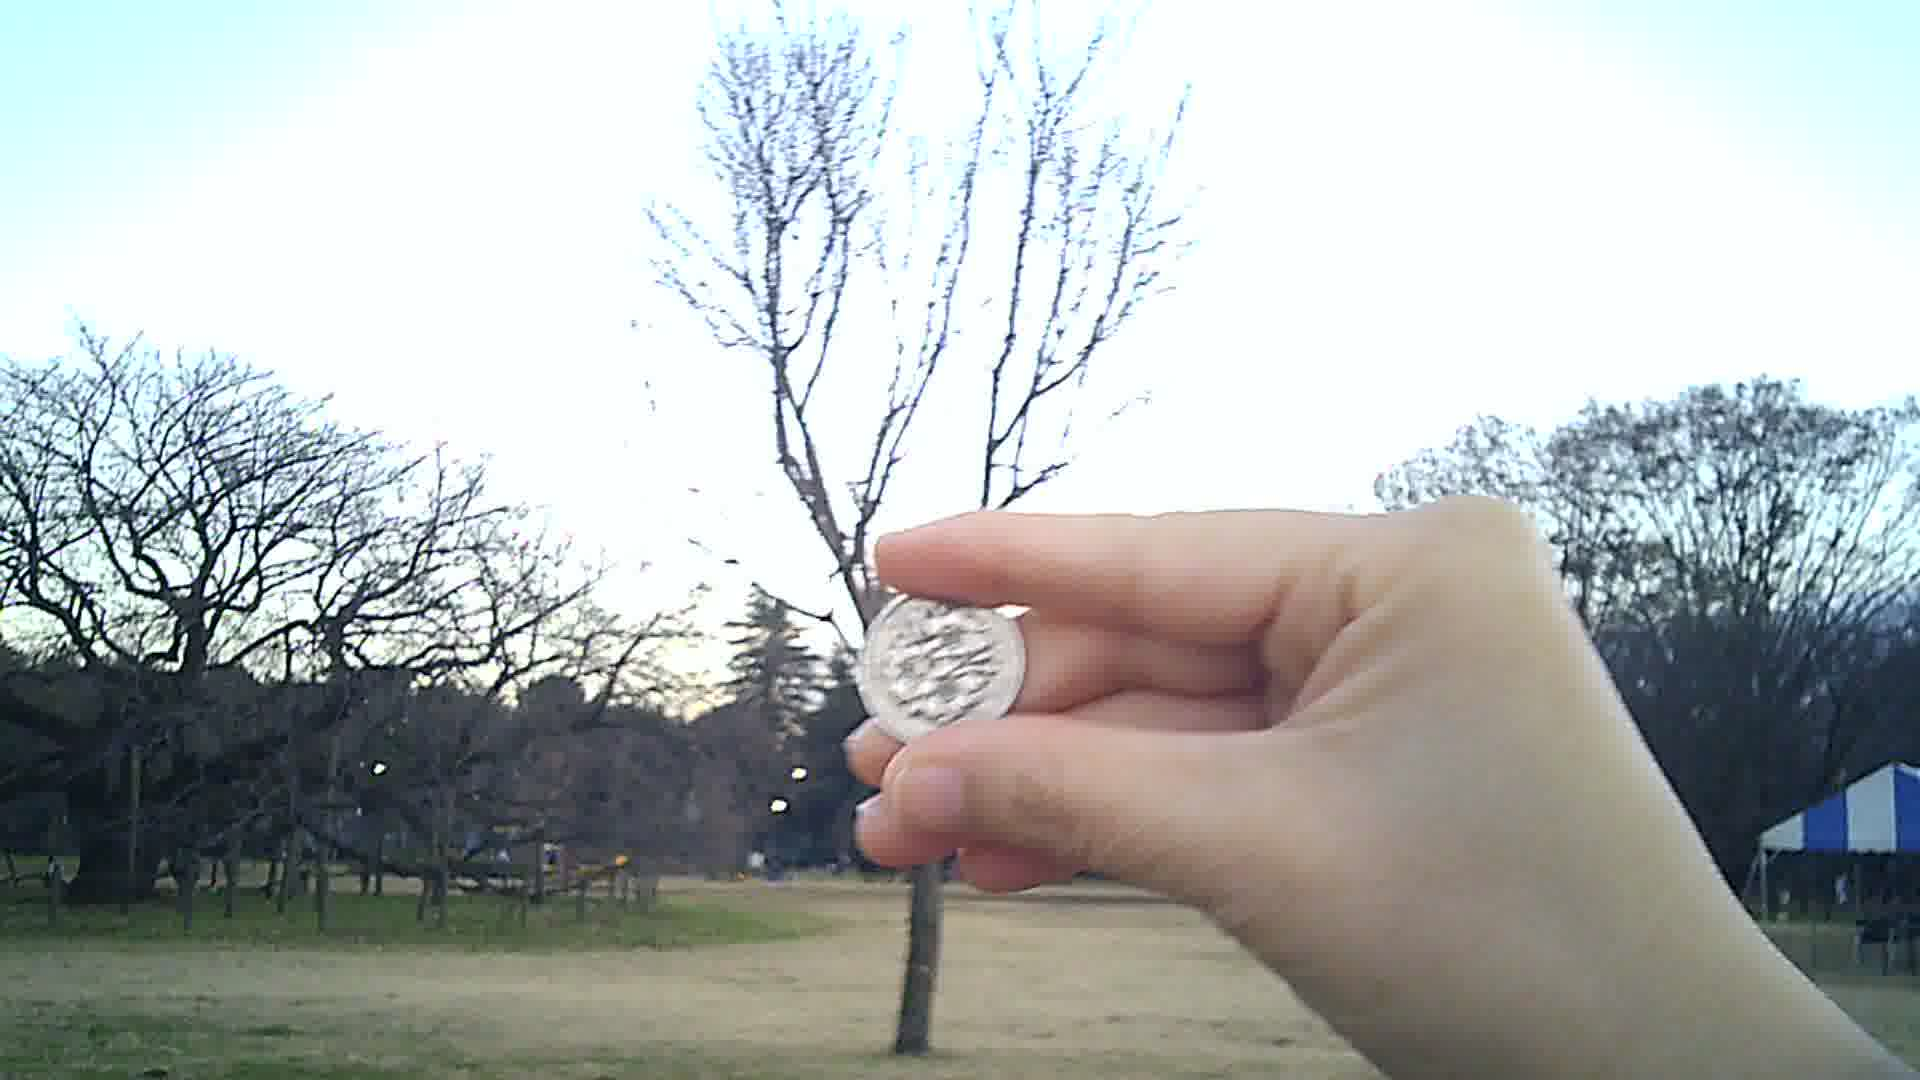100 Yen: (851, 579, 1023, 748)
